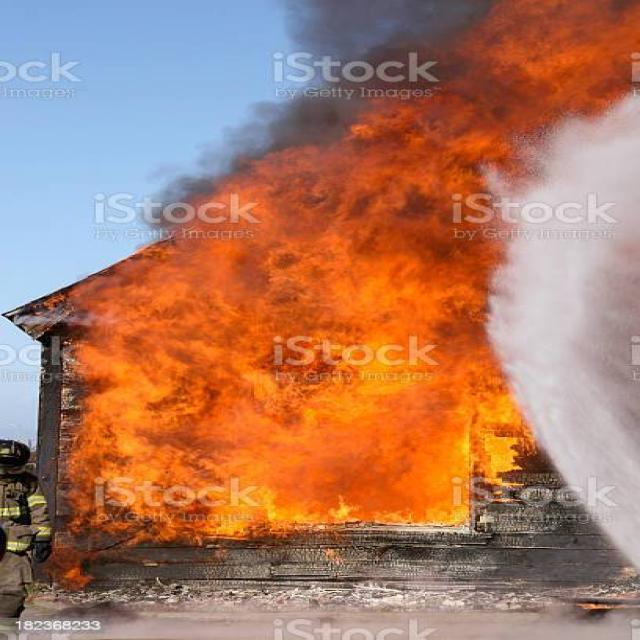Fire: (66, 276, 514, 540), (140, 130, 503, 270), (452, 2, 640, 97)
